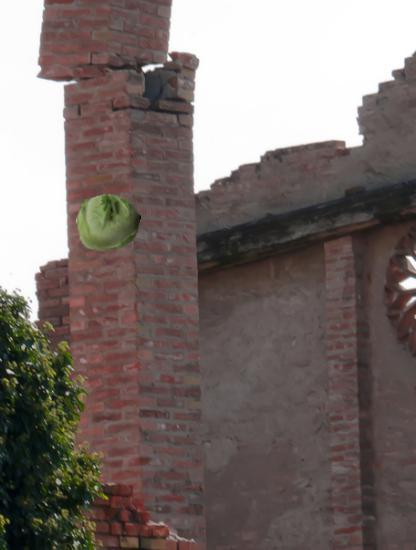Kohlrabi: (76, 190, 141, 255)
